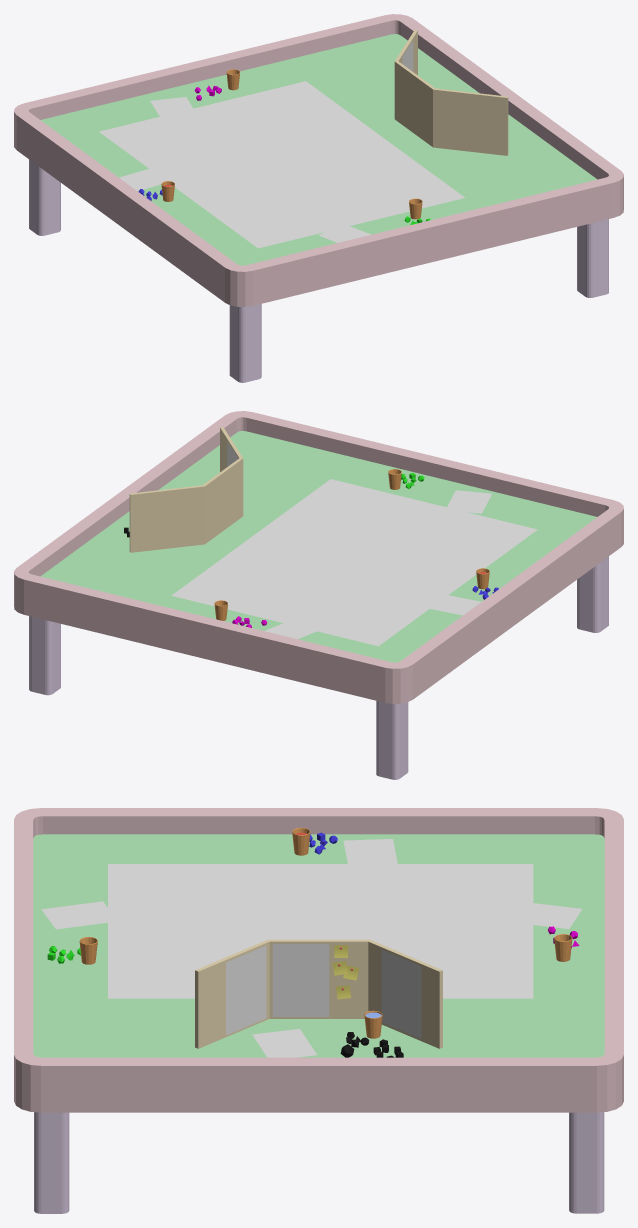
File: dnd_scene_setup.fbx
3 views of the same model, one above another, from view 1: azimuth 30°, elevation 25°; view 2: azimuth 150°, elevation 25°; view 3: azimuth 270°, elevation 25° (orthographic). The views are drawn at different scales.
Parts seen in each view (by area): view 1: Table Top, map, Table Top Carpet, DM Cover Board, Leg 3, Leg 4, Leg 2, Character Sheet 2, Character Sheet 3, Character Sheet 1; view 2: Table Top, map, Table Top Carpet, DM Cover Board, Leg 2, Leg 1, Leg 3, Character Sheet 1, Character Sheet 3, Character Sheet 2; view 3: Table Top, Table Top Carpet, map, DM Cover Board, DM Center Paper, Leg 4, Leg 1, DM Left Paper, DM Right Paper, Character Sheet 1, Character Sheet 2, Character Sheet 3 (+1 smaller).
Boxes of the visible parts, x1,y1,x2,y2 form: Table Top: [14, 14, 623, 306]; map: [99, 81, 464, 248]; Table Top Carpet: [40, 34, 597, 265]; DM Cover Board: [394, 30, 508, 155]; Leg 3: [229, 304, 261, 382]; Leg 4: [577, 219, 608, 297]; Leg 2: [29, 159, 60, 235]; Character Sheet 2: [150, 97, 197, 120]; Character Sheet 3: [119, 167, 174, 191]; Character Sheet 1: [318, 224, 370, 242]; Table Top: [14, 411, 623, 703]; map: [171, 479, 537, 646]; Table Top Carpet: [40, 431, 596, 662]; DM Cover Board: [129, 427, 243, 552]; Leg 2: [376, 701, 408, 779]; Leg 1: [29, 616, 60, 695]; Leg 3: [577, 556, 608, 632]; Character Sheet 1: [445, 490, 491, 513]; Character Sheet 3: [425, 593, 481, 615]; Character Sheet 2: [264, 617, 324, 639]; Table Top: [14, 808, 623, 1112]; Table Top Carpet: [33, 834, 604, 1057]; map: [108, 864, 533, 998]; DM Cover Board: [195, 939, 442, 1048]; DM Center Paper: [272, 944, 329, 1016]; Leg 4: [34, 1112, 69, 1213]; Leg 1: [569, 1112, 604, 1213]; DM Left Paper: [226, 946, 266, 1035]; DM Right Paper: [381, 950, 421, 1039]; Character Sheet 1: [41, 901, 117, 929]; Character Sheet 2: [507, 901, 581, 928]; Character Sheet 3: [343, 839, 397, 867].
Bounding box in the file's own units: 1189 × 463 × 1189.
